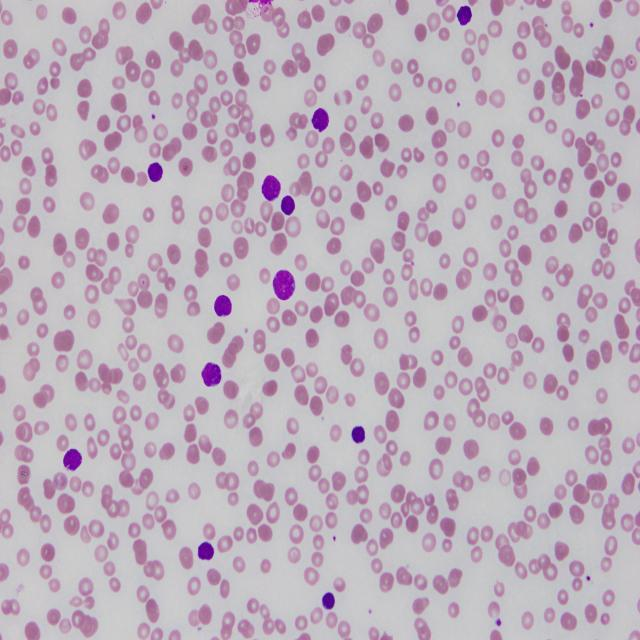cell: (272, 270, 295, 300), (261, 175, 280, 201), (201, 363, 221, 387), (62, 448, 82, 470), (311, 108, 329, 132), (214, 295, 232, 317), (198, 542, 214, 560), (281, 195, 295, 215), (148, 163, 162, 182), (322, 592, 335, 610), (458, 7, 471, 25), (351, 427, 365, 443)
